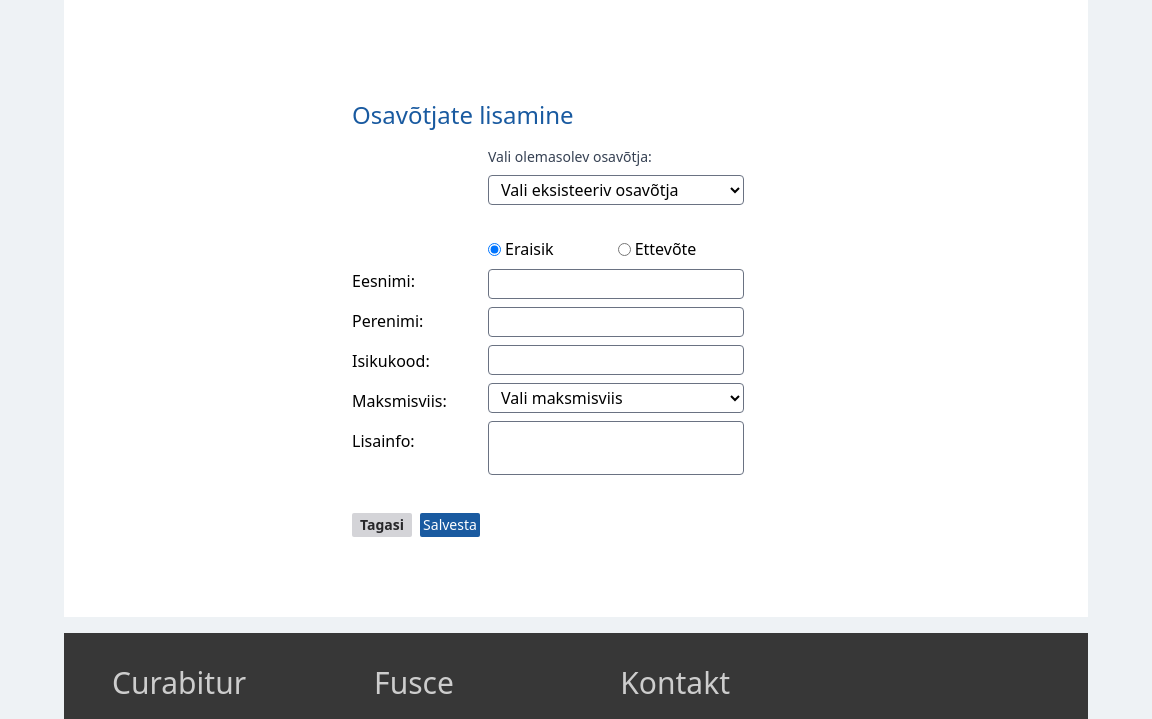
Test: Osavõtjate vormi testid › Vormi valideerimine › valideerib Eesti isikukoodi
(page scrolled)
Type "12345" into the 3rd field at (616, 360), box top-left (488, 345), bottom-right (744, 375)
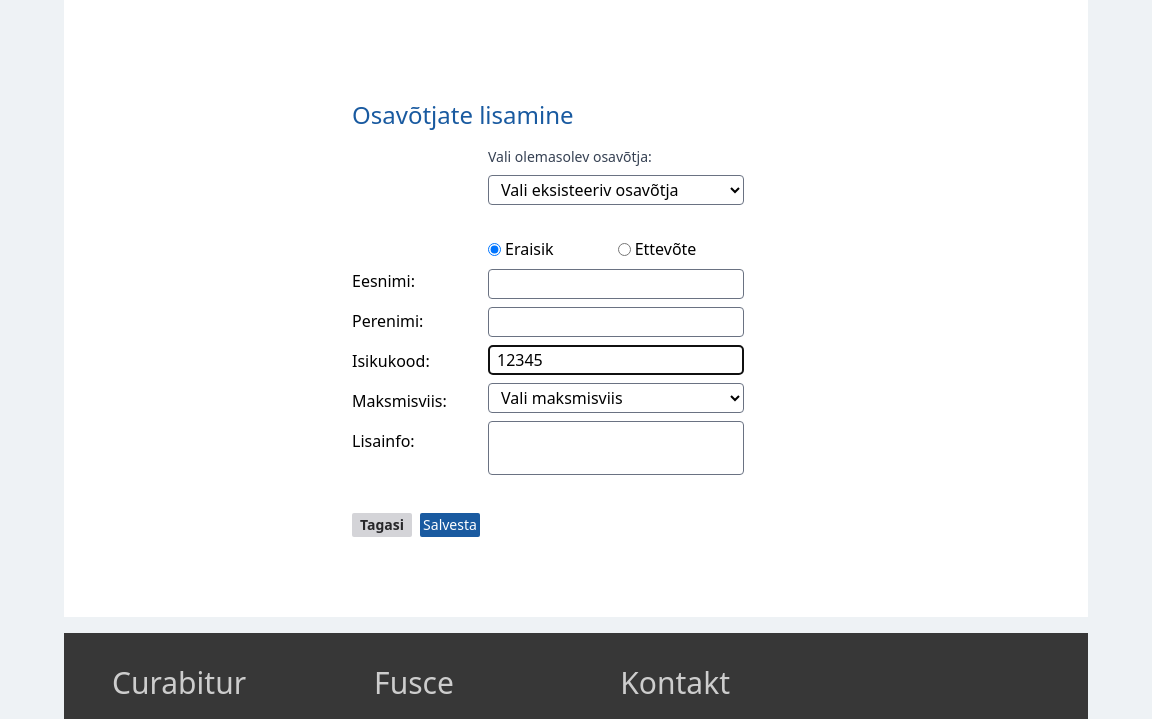
Click the button "Salvesta" at (450, 525), box top-left (420, 513), bottom-right (480, 537)
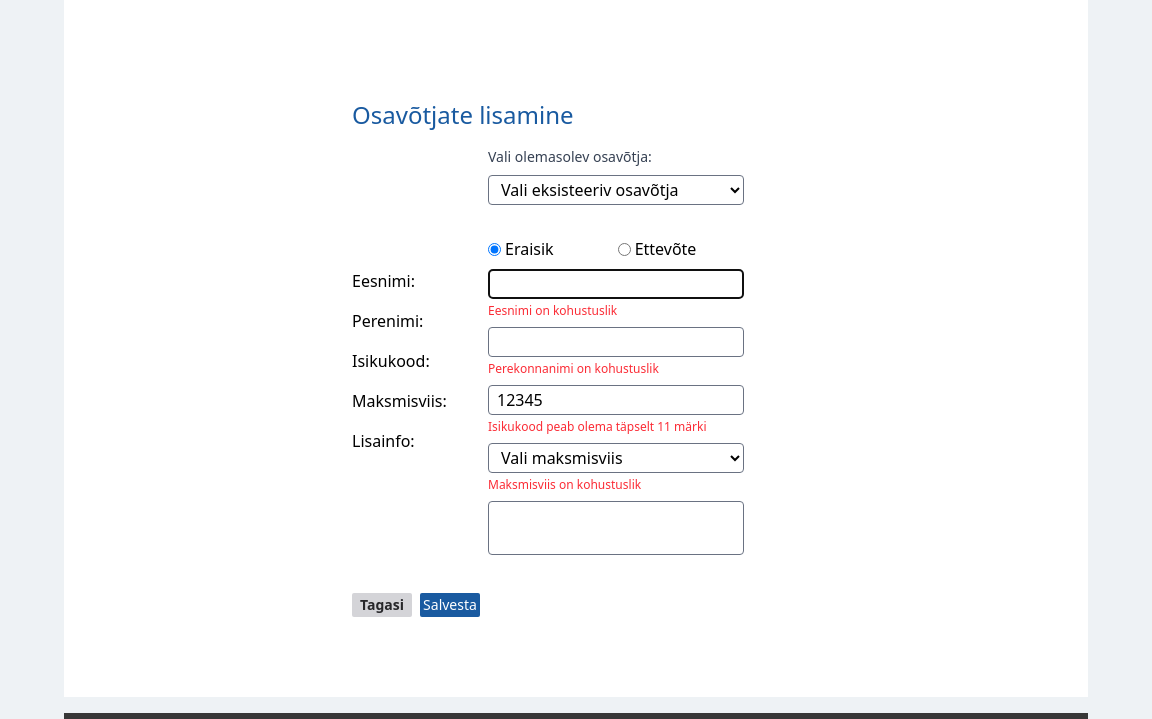
Expected: the text "Isikukood peab olema täpselt 11 märki" is shown, top-left (488, 419), bottom-right (744, 435)
